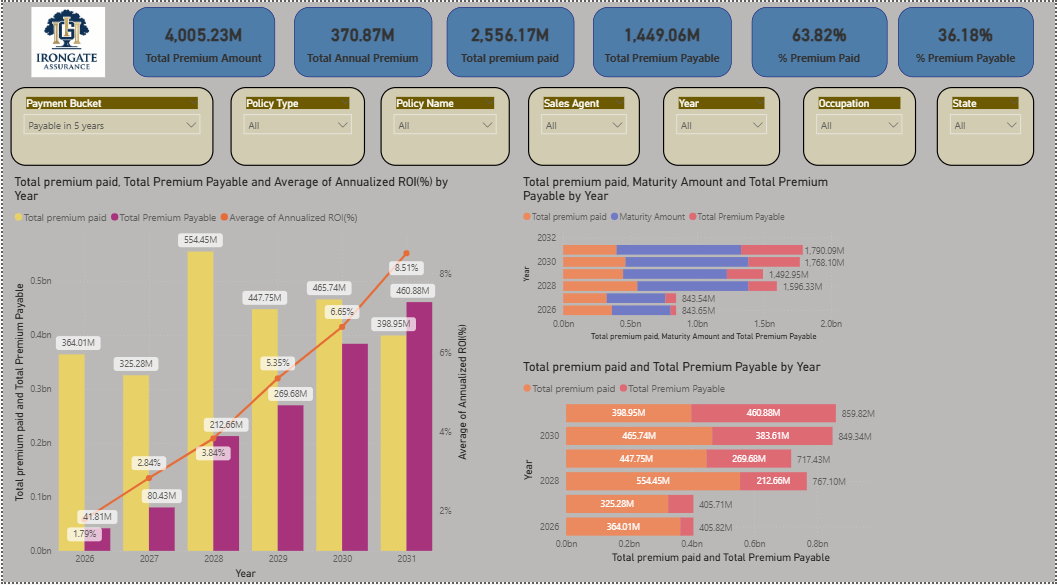

This screenshot's page, from the dashboard's own definition file:
{"tool":"powerbi","page":{"name":"Premium Analysis (5-20 Years)","canvas":[1450,800],"ordinal":4},"visuals":[{"type":"card","fields":{"Values":["Sum(FCT Insurance_Policy_Table.Total Annual Premium)"]},"box":[401.4,7.1,190,97.1],"z":0},{"type":"card","fields":{"Values":["Sum(FCT Insurance_Policy_Table.Total Premium Amount)"]},"box":[180,7.1,195.7,97.1],"z":1000},{"type":"card","fields":{"Values":["Sum(FCT Insurance_Policy_Table.Total premium paid)"]},"box":[611.4,7.1,175.7,97.1],"z":2000},{"type":"card","fields":{"Values":["Sum(FCT Insurance_Policy_Table.Total Premium Payable)"]},"box":[814.3,7.1,191.4,97.1],"z":3000},{"type":"card","fields":{"Values":["FCT Insurance_Policy_Table.% Premium Paid"]},"box":[1032.9,7.1,187.1,97.1],"z":4000},{"type":"image","box":[0,7.1,180,97.1],"z":5000},{"type":"slicer","fields":{"Values":["DM Policy_Type.Policy Type"]},"box":[314.3,117.1,185.7,108.6],"z":6000},{"type":"slicer","fields":{"Values":["DM Policy_Protection_Plan.Policy Name"]},"box":[521.4,117.1,178.6,108.6],"z":7000},{"type":"slicer","fields":{"Values":["DM Insurance_Agent_Table.Sales Agent"]},"box":[724.3,117.1,154.3,108.6],"z":8000},{"type":"slicer","fields":{"Values":["FCT Insurance_Policy_Table.Date of Purchase.Variation.Date Hierarchy.Year"]},"box":[910,117.1,161.4,108.6],"z":9000},{"type":"slicer","fields":{"Values":["DM Customer_Detail_Table (2).Occupation"]},"box":[1102.9,117.1,155.7,108.6],"z":10000},{"type":"slicer","fields":{"Values":["DM Customer_Detail_Table (2).State"]},"box":[1287.1,117.1,134.3,108.6],"z":11000},{"type":"card","fields":{"Values":["FCT Insurance_Policy_Table.% Premium Payable"]},"box":[1234.3,7.1,187.1,97.1],"z":12000},{"type":"slicer","fields":{"Values":["FCT Insurance_Policy_Table.Payment Bucket"]},"box":[10,117.1,280,108.6],"z":13000},{"type":"lineClusteredColumnComboChart","fields":{"Y":["Sum(FCT Insurance_Policy_Table.Total premium paid)","Sum(FCT Insurance_Policy_Table.Total Premium Payable)"],"Y2":["Avg(FCT Insurance_Policy_Table.Annualized ROI(%))"],"Category":["FCT Insurance_Policy_Table.Tenure Date.Variation.Date Hierarchy.Year"]},"box":[10,237.1,635.7,562.9],"z":14000},{"type":"barChart","fields":{"Category":["FCT Insurance_Policy_Table.Tenure Date.Variation.Date Hierarchy.Year","FCT Insurance_Policy_Table.Tenure Date.Variation.Date Hierarchy.Quarter","FCT Insurance_Policy_Table.Tenure Date.Variation.Date Hierarchy.Month","FCT Insurance_Policy_Table.Tenure Date.Variation.Date Hierarchy.Day"],"Y":["Sum(FCT Insurance_Policy_Table.Total premium paid)","Sum(FCT Insurance_Policy_Table.Maturity Amount)","Sum(FCT Insurance_Policy_Table.Total Premium Payable)"]},"box":[712.9,237.1,468.6,234.3],"z":15000},{"type":"barChart","fields":{"Category":["FCT Insurance_Policy_Table.Tenure Date.Variation.Date Hierarchy.Year","FCT Insurance_Policy_Table.Tenure Date.Variation.Date Hierarchy.Quarter","FCT Insurance_Policy_Table.Tenure Date.Variation.Date Hierarchy.Month","FCT Insurance_Policy_Table.Tenure Date.Variation.Date Hierarchy.Day"],"Y":["Sum(FCT Insurance_Policy_Table.Total premium paid)","Sum(FCT Insurance_Policy_Table.Total Premium Payable)"]},"box":[712.9,492.9,511.4,285.7],"z":16000}]}

Visuals, with their boxes in screenshot pixels (x1, y1, x2, y2), scaled from the page's 1450x800 canvas onto the 1057x585 screenshot:
card - Sum(FCT Insurance_Policy_Table.Total Annual Premium): region(293, 5, 431, 76)
card - Sum(FCT Insurance_Policy_Table.Total Premium Amount): region(131, 5, 274, 76)
card - Sum(FCT Insurance_Policy_Table.Total premium paid): region(446, 5, 574, 76)
card - Sum(FCT Insurance_Policy_Table.Total Premium Payable): region(594, 5, 733, 76)
card - FCT Insurance_Policy_Table.% Premium Paid: region(753, 5, 889, 76)
image: region(0, 5, 131, 76)
slicer - DM Policy_Type.Policy Type: region(229, 86, 364, 165)
slicer - DM Policy_Protection_Plan.Policy Name: region(380, 86, 510, 165)
slicer - DM Insurance_Agent_Table.Sales Agent: region(528, 86, 640, 165)
slicer - FCT Insurance_Policy_Table.Date of Purchase.Variation.Date Hierarchy.Year: region(663, 86, 781, 165)
slicer - DM Customer_Detail_Table (2).Occupation: region(804, 86, 917, 165)
slicer - DM Customer_Detail_Table (2).State: region(938, 86, 1036, 165)
card - FCT Insurance_Policy_Table.% Premium Payable: region(900, 5, 1036, 76)
slicer - FCT Insurance_Policy_Table.Payment Bucket: region(7, 86, 211, 165)
lineClusteredColumnComboChart - Sum(FCT Insurance_Policy_Table.Total premium paid) x Sum(FCT Insurance_Policy_Table.Total Premium Payable): region(7, 173, 471, 584)
barChart - FCT Insurance_Policy_Table.Tenure Date.Variation.Date Hierarchy.Year x FCT Insurance_Policy_Table.Tenure Date.Variation.Date Hierarchy.Quarter: region(520, 173, 861, 345)
barChart - FCT Insurance_Policy_Table.Tenure Date.Variation.Date Hierarchy.Year x FCT Insurance_Policy_Table.Tenure Date.Variation.Date Hierarchy.Quarter: region(520, 360, 892, 569)
